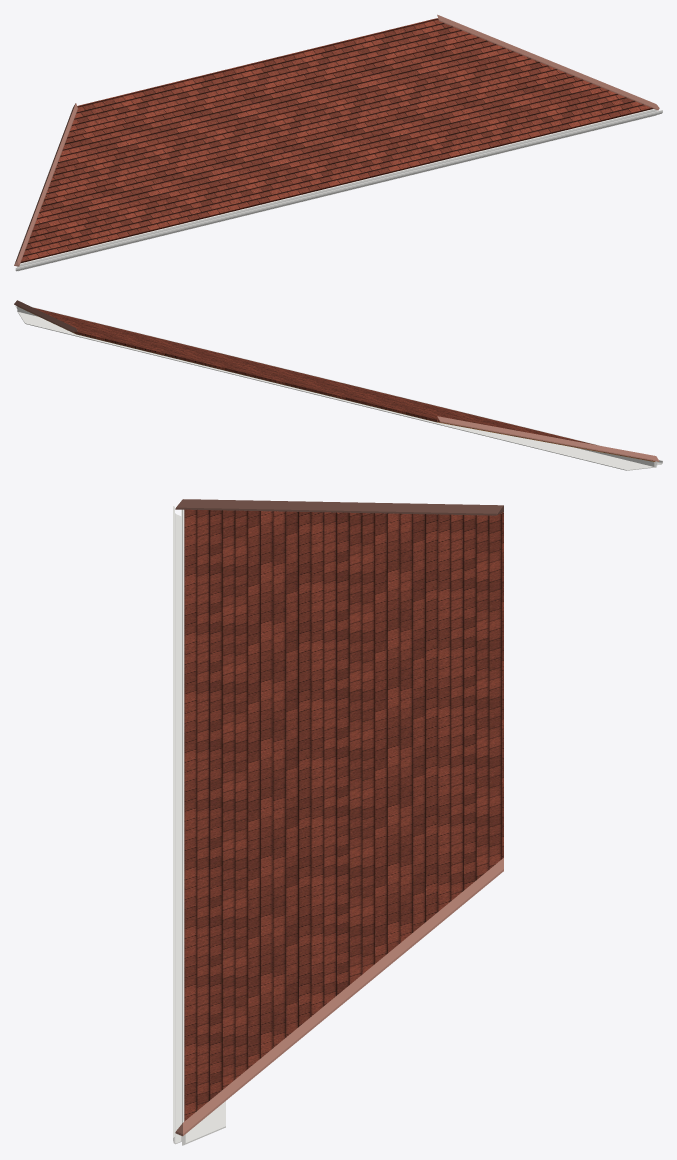
Rendered from roof_main.glb.
3 views of the same model, one above another, from view 1: azimuth 30°, elevation 25°; view 2: azimuth 150°, elevation 25°; view 3: azimuth 270°, elevation 25° (orthographic). The views are drawn at different scales.
Visible parts, largest first — view 1: roof_main_shingles, roof_main_gutter, roof_main_ridge, roof_main_trim; view 2: roof_main_shingles, roof_main_trim, roof_main_ridge, roof_main_wood, roof_main_gutter; view 3: roof_main_shingles, roof_main_ridge, roof_main_gutter, roof_main_trim.
Part boxes in pixels (x1,y1,x2,y2): roof_main_shingles: [20, 18, 653, 263]; roof_main_gutter: [15, 110, 662, 271]; roof_main_ridge: [14, 14, 659, 266]; roof_main_trim: [17, 109, 656, 271]; roof_main_shingles: [33, 307, 654, 461]; roof_main_trim: [17, 306, 656, 470]; roof_main_ridge: [14, 300, 659, 461]; roof_main_wood: [18, 306, 654, 461]; roof_main_gutter: [15, 305, 662, 465]; roof_main_shingles: [184, 509, 503, 1121]; roof_main_ridge: [175, 499, 503, 1136]; roof_main_gutter: [173, 506, 181, 1144]; roof_main_trim: [182, 509, 225, 1145].
Size of the model in its own units: 21.52 by 2.42 by 4.76.
Materials: 6 (2 with a texture image).
